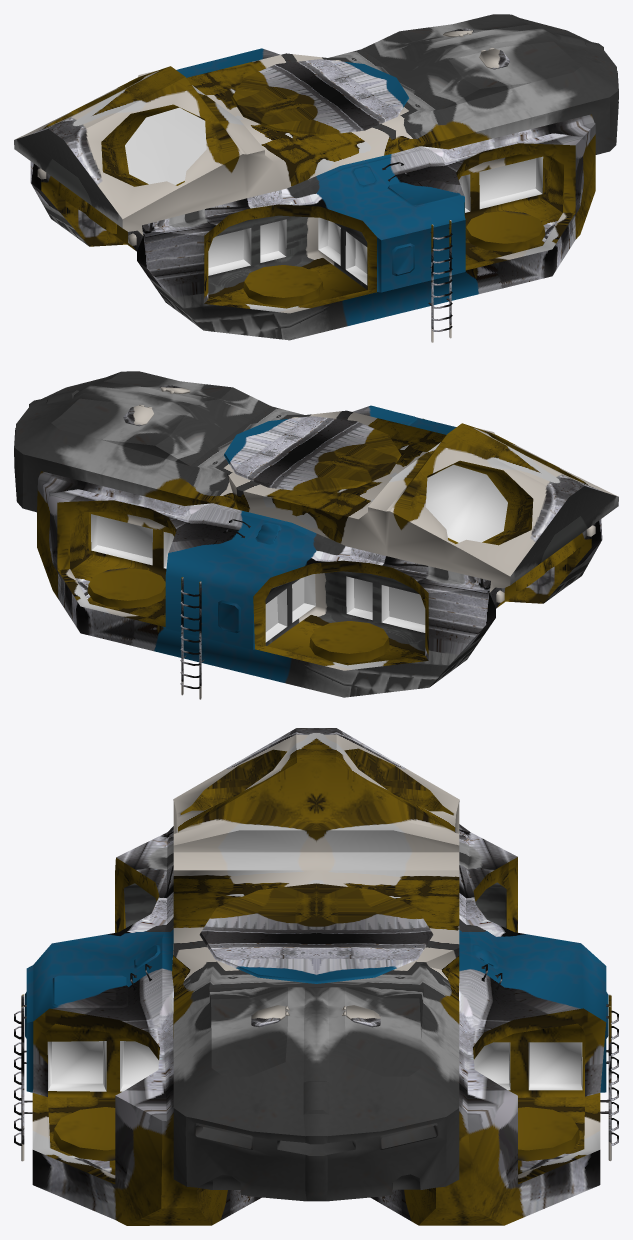
File: sonic_tank_armor.fbx
3 views of the same model, one above another, from view 1: azimuth 30°, elevation 25°; view 2: azimuth 150°, elevation 25°; view 3: azimuth 270°, elevation 25° (orthographic). The views are drawn at different scales.
Visible parts, largest first — view 1: sonic_tank_armor; view 2: sonic_tank_armor; view 3: sonic_tank_armor.
Boxes of the visible parts, x1,y1,x2,y2 form: sonic_tank_armor: (14,14,618,342); sonic_tank_armor: (14,371,618,699); sonic_tank_armor: (14,728,618,1225).
Size of the model in its own units: 365 by 143 by 266.
